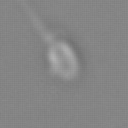normal: (17, 1, 51, 42)
